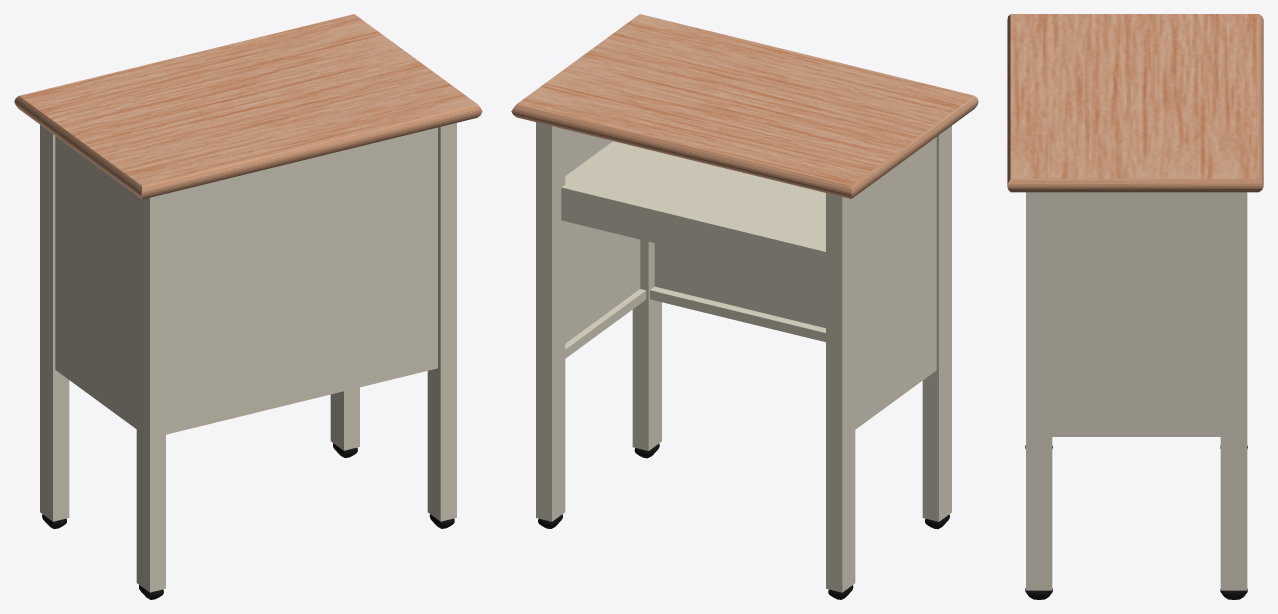
File: Aseet_13_TeacherDesk.fbx
The picture shows the model from 3 angles, left to right: view 1: azimuth 30°, elevation 25°; view 2: azimuth 150°, elevation 25°; view 3: azimuth 270°, elevation 25°; orthographic projection.
Visible parts, largest first — view 1: SK_13_TeacherDesk; view 2: SK_13_TeacherDesk; view 3: SK_13_TeacherDesk.
Part boxes in pixels (x1,y1,x2,y2): SK_13_TeacherDesk: (14,14,482,599); SK_13_TeacherDesk: (511,14,978,599); SK_13_TeacherDesk: (1007,14,1263,599).
Size of the model in its own units: 7.29 by 8.72 by 4.71.
